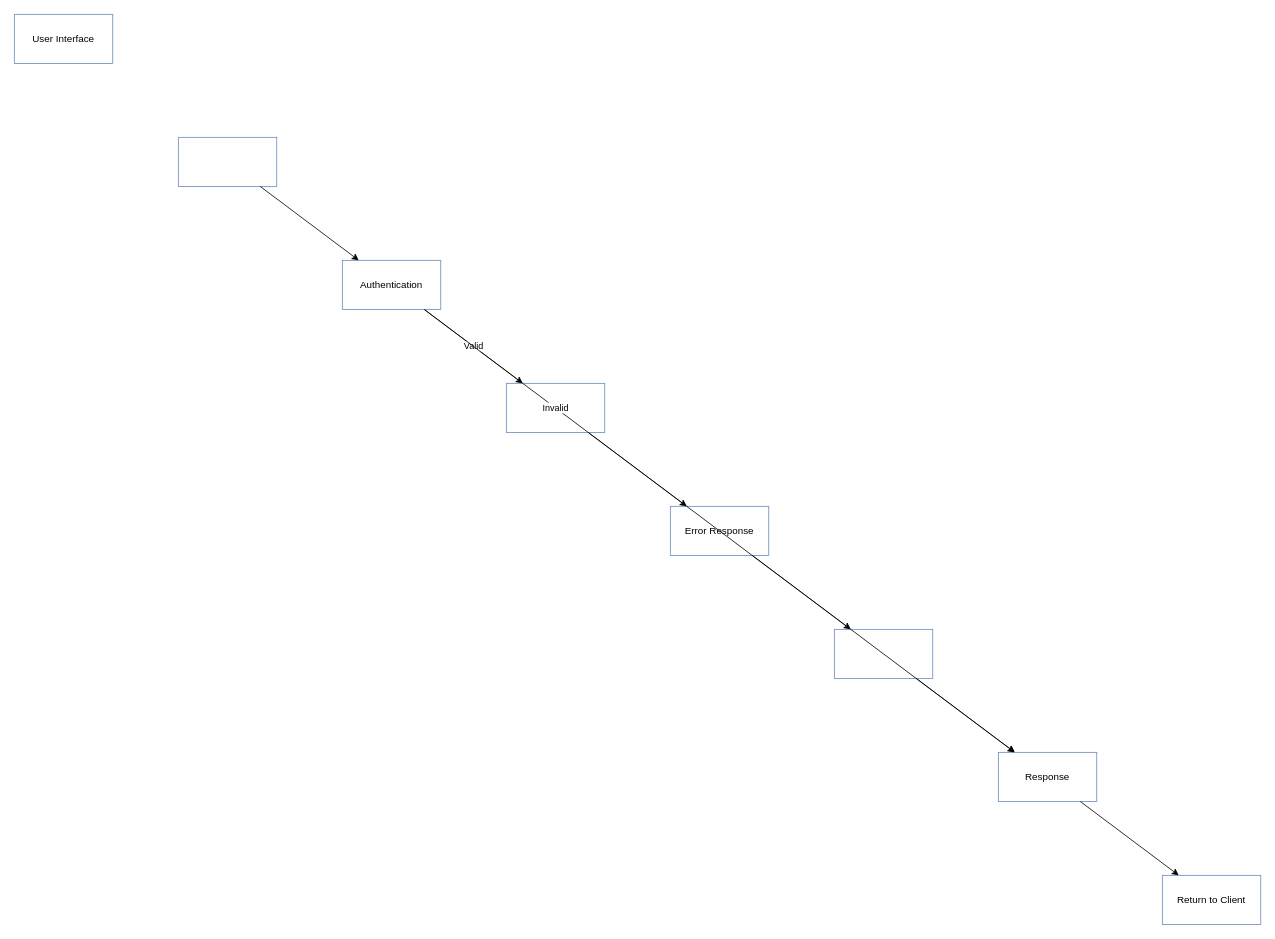
The diagram is 1275 pixels wide and 939 high, and some of its shapes have lost their labels. Here are the shapes that lost their labels. From the top down, the centre of each, then its label:
the point at 227,162: REST API
the point at 555,408: Database Query
the point at 883,654: [(Database)
